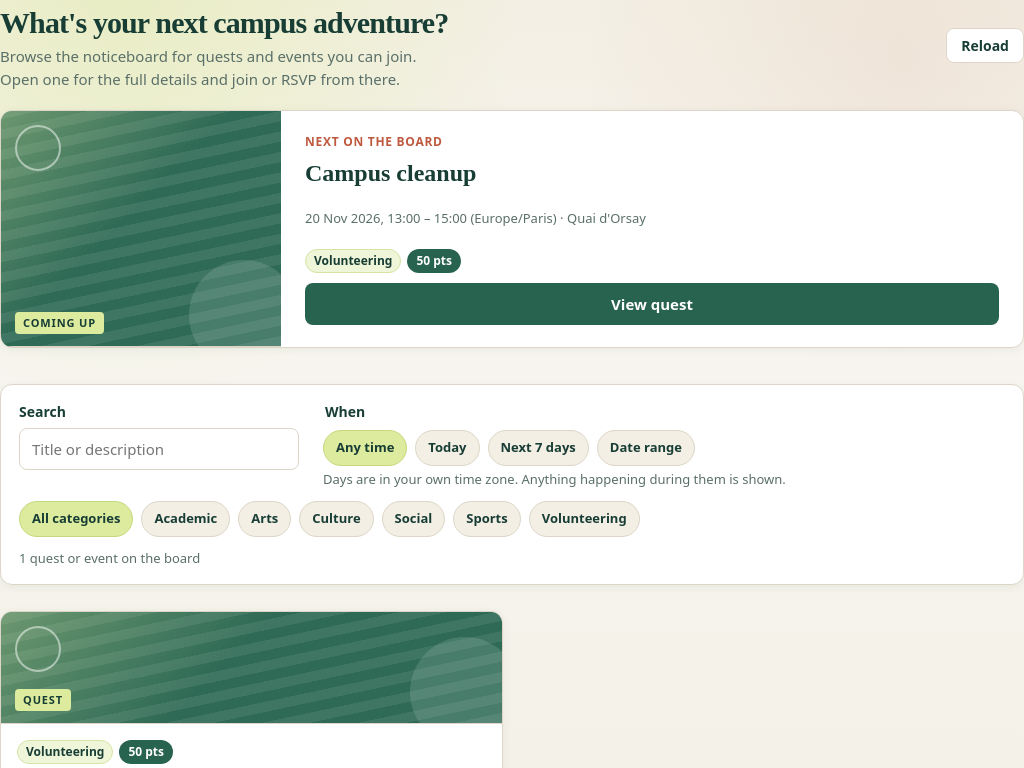
Test: Server-side filters and paging › doesn't send a date range that ends before it starts
Click the button "Date range": coordinates (646, 448) left=597, top=430, right=695, bottom=466
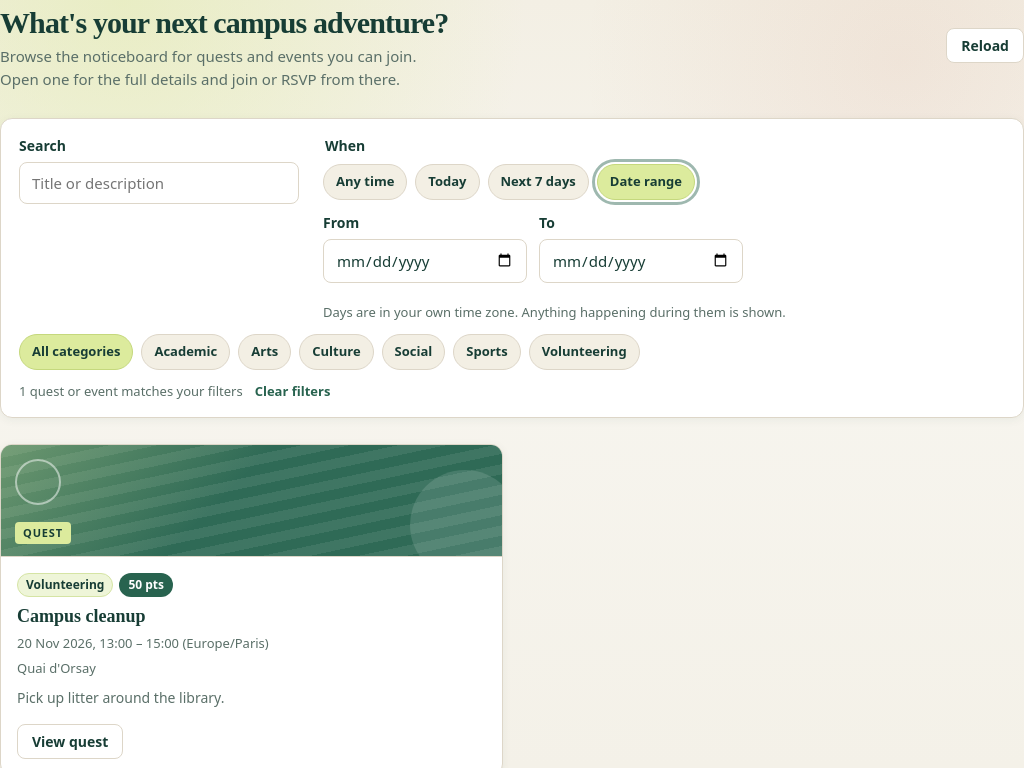
In the date field labelled "From": coordinates (425, 260) left=323, top=238, right=527, bottom=282, type "2026-11-20"
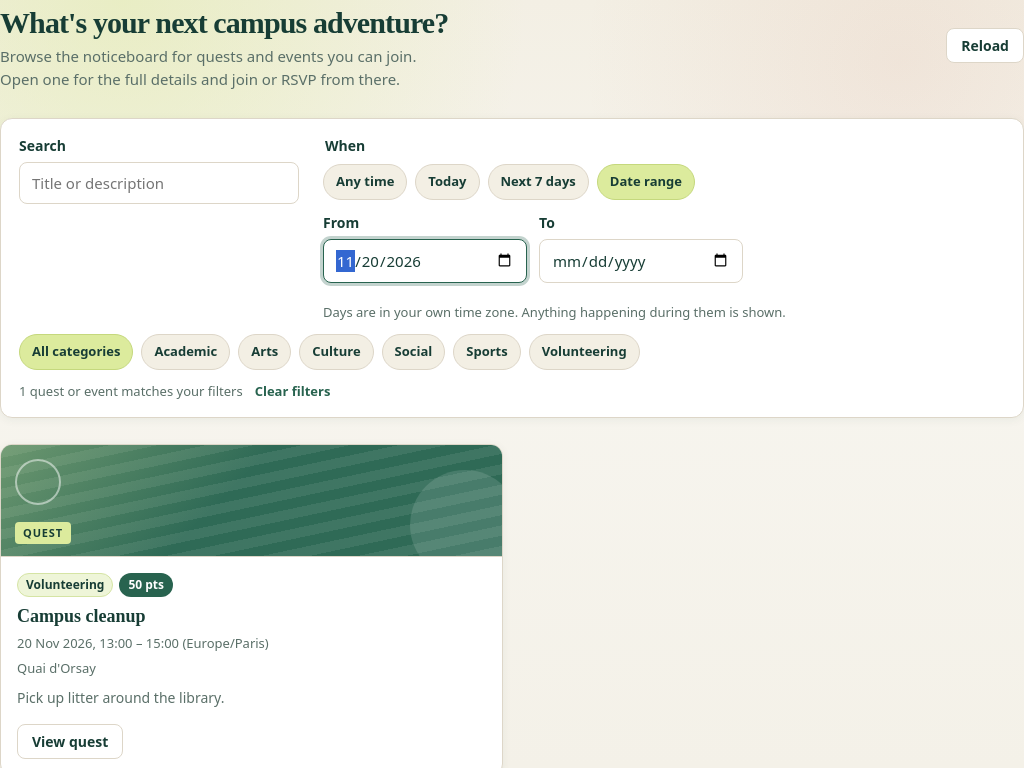
In the date field labelled "To": coordinates (641, 260) left=539, top=238, right=743, bottom=282, type "2026-11-10"
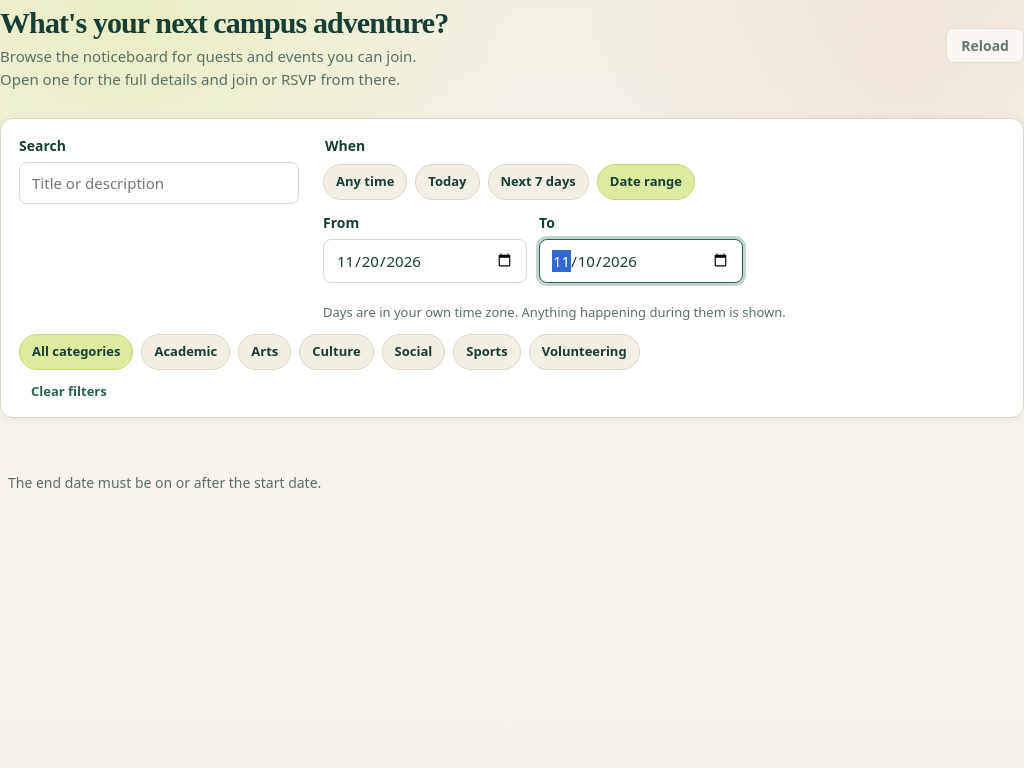
Expected: the text "The end date must be on or after the start date." is shown, left=8, top=473, right=321, bottom=492
